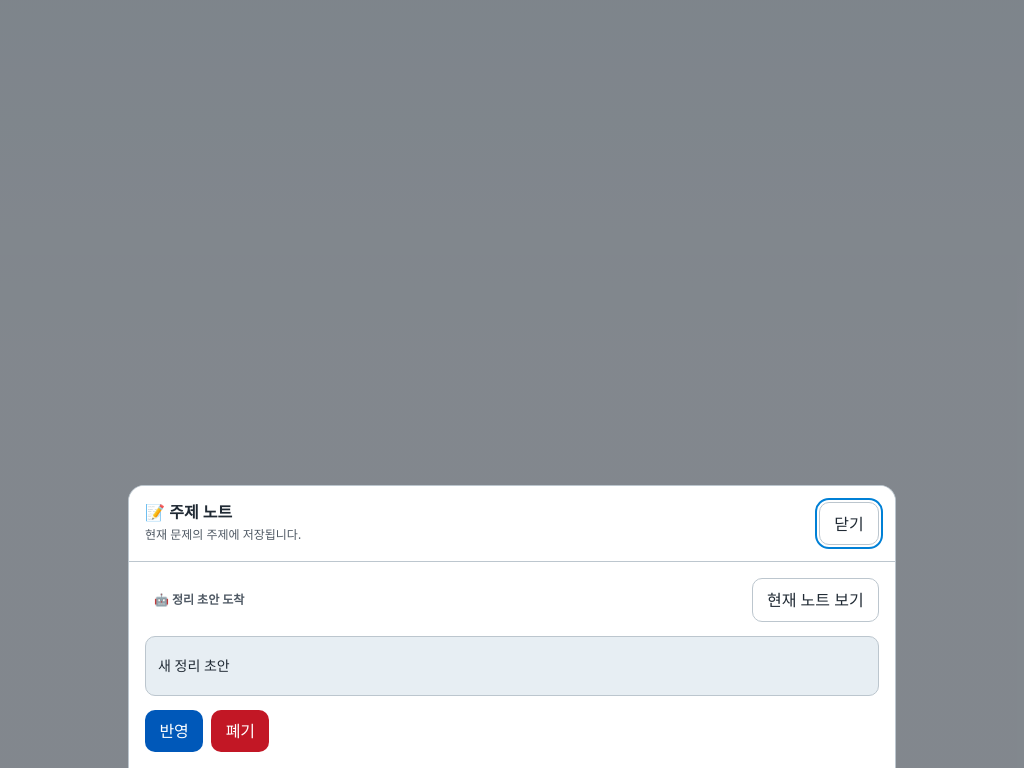
Scenario: NotePanel › 이전 topic의 늦은 polling 응답이 새 topic에서 폐기한 상태를 되살리지 않는다
This screenshot has width=1024, height=768.
Check: the message shows "정리 초안 도착", box [154, 592, 244, 608]
Click the button "폐기": (240, 731) [211, 710, 269, 752]
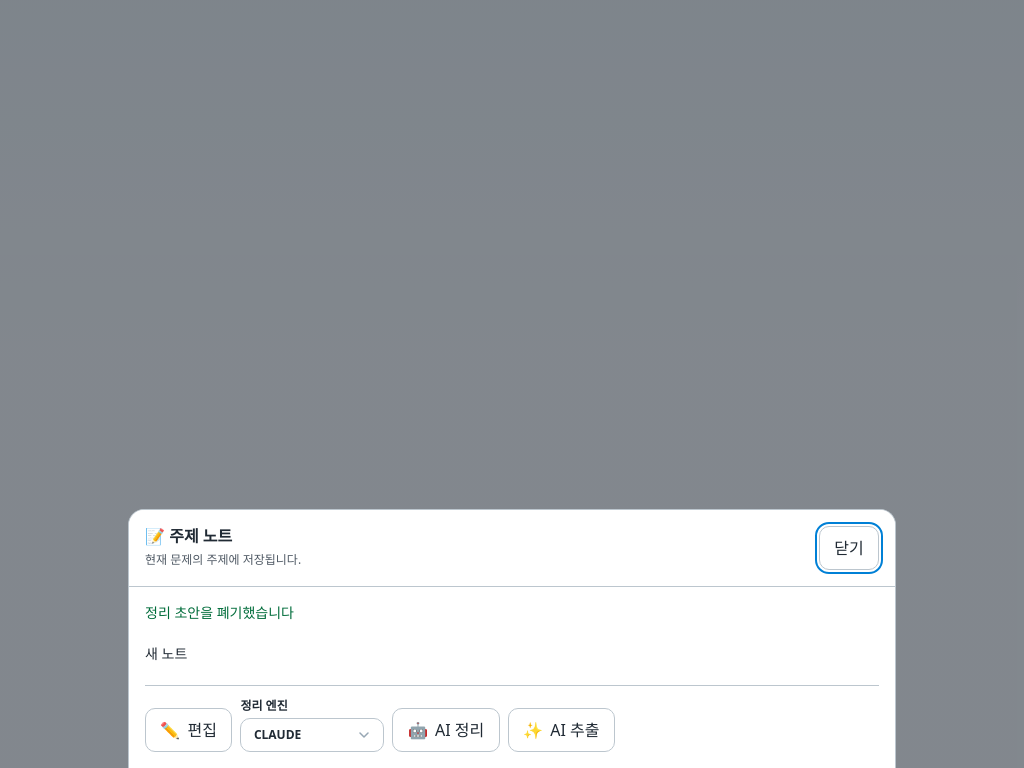
Check: the message shows "폐기했습니다", box [145, 603, 294, 622]
Check: the text "새 노트" is shown, box [145, 644, 187, 663]
